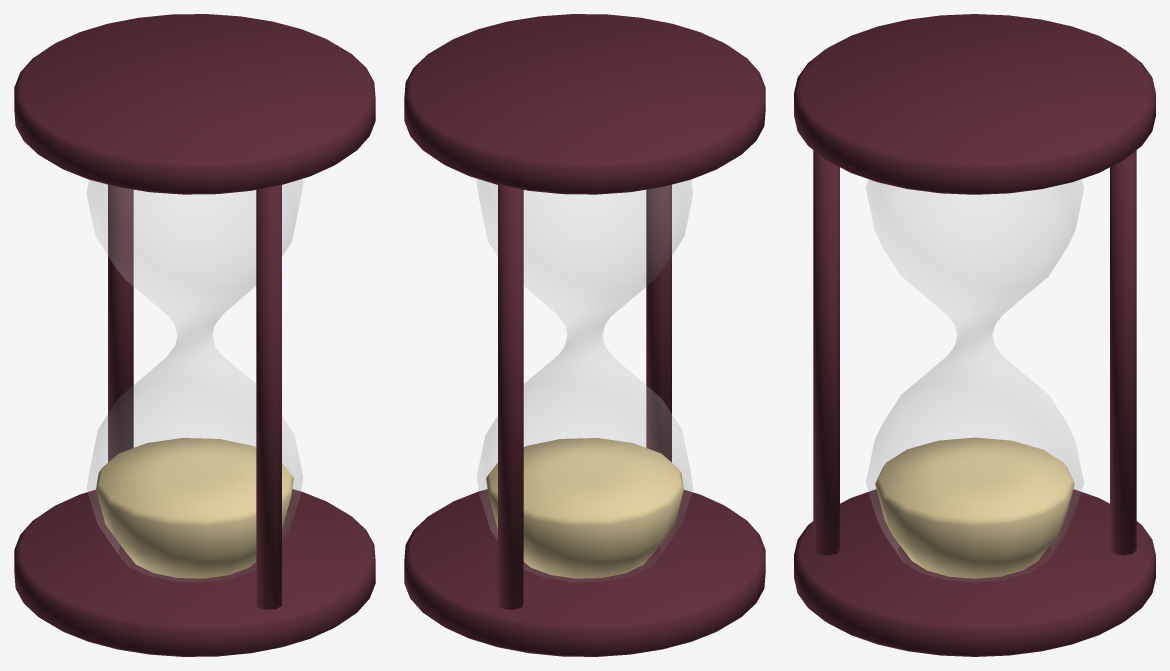
Rendered from Hourglass.fbx.
3 views of the same model, side by side, from view 1: azimuth 30°, elevation 25°; view 2: azimuth 150°, elevation 25°; view 3: azimuth 270°, elevation 25° (orthographic).
Parts seen in each view (by area): view 1: Cylinder.001; view 2: Cylinder.001; view 3: Cylinder.001.
Part boxes in pixels (box(x1,y1,x2,y2)): Cylinder.001: box(14, 14, 375, 656); Cylinder.001: box(404, 14, 765, 656); Cylinder.001: box(794, 14, 1155, 656).
Bounding box in the file's own units: 395 × 597 × 395.
